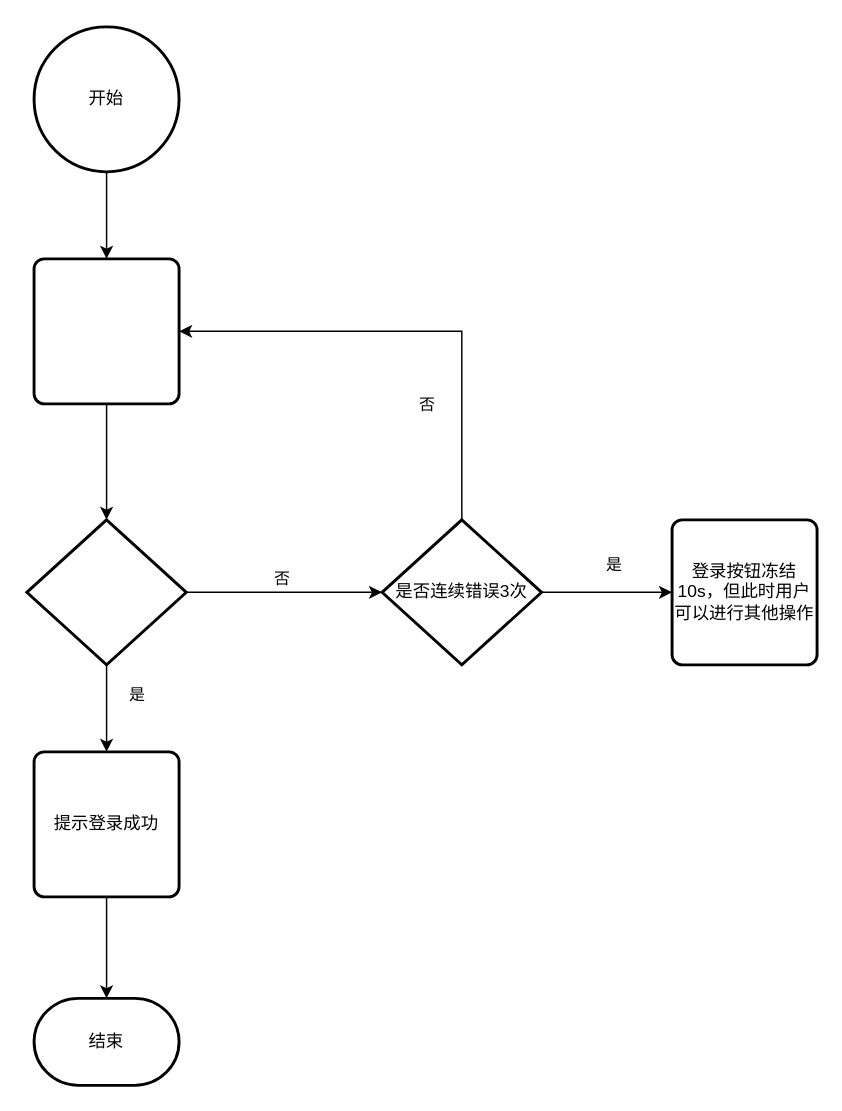
The diagram is 842 pixels wide and 1111 high, and some of its shapes have lost their labels. The box of each missing label's shape, as (x1, y1, x2, y2) in pixels:
密码是否正确: (25, 518, 187, 666)
输入用户名密码登录: (32, 257, 180, 405)
